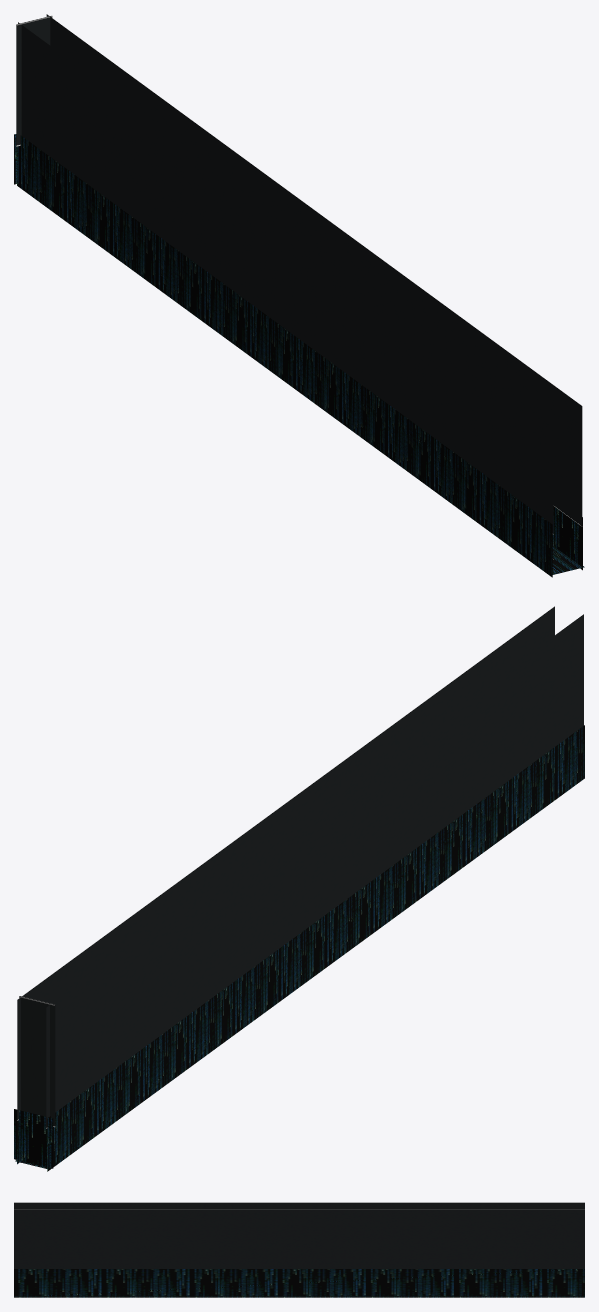
File: Corridor.fbx
3 renders of one model, top to bottom at view 1: azimuth 30°, elevation 25°; view 2: azimuth 150°, elevation 25°; view 3: azimuth 270°, elevation 25°, orthographic. The views are drawn at different scales.
Parts seen in each view (by area): view 1: pPlane3, pPlane6, pPlane2, pPlane5, pPlane7; view 2: pPlane3, pPlane6, pPlane2, pPlane7, polySurface1; view 3: pPlane2, pPlane5, pPlane3, pPlane1.
Boxes of the visible parts, x1=… form: pPlane3: x1=18, y1=22, x2=553, y2=534; pPlane6: x1=17, y1=135, x2=552, y2=577; pPlane2: x1=46, y1=14, x2=582, y2=526; pPlane5: x1=552, y1=506, x2=582, y2=570; pPlane7: x1=16, y1=15, x2=52, y2=146; pPlane3: x1=46, y1=614, x2=583, y2=1128; pPlane6: x1=47, y1=725, x2=584, y2=1171; pPlane2: x1=17, y1=606, x2=554, y2=1120; pPlane7: x1=19, y1=996, x2=55, y2=1127; polySurface1: x1=14, y1=1109, x2=53, y2=1168; pPlane2: x1=14, y1=1209, x2=584, y2=1268; pPlane5: x1=14, y1=1269, x2=584, y2=1297; pPlane3: x1=14, y1=1202, x2=584, y2=1209; pPlane1: x1=14, y1=1296, x2=584, y2=1296.
Bounding box in the file's own units: 4.59 × 18.57 × 109.
